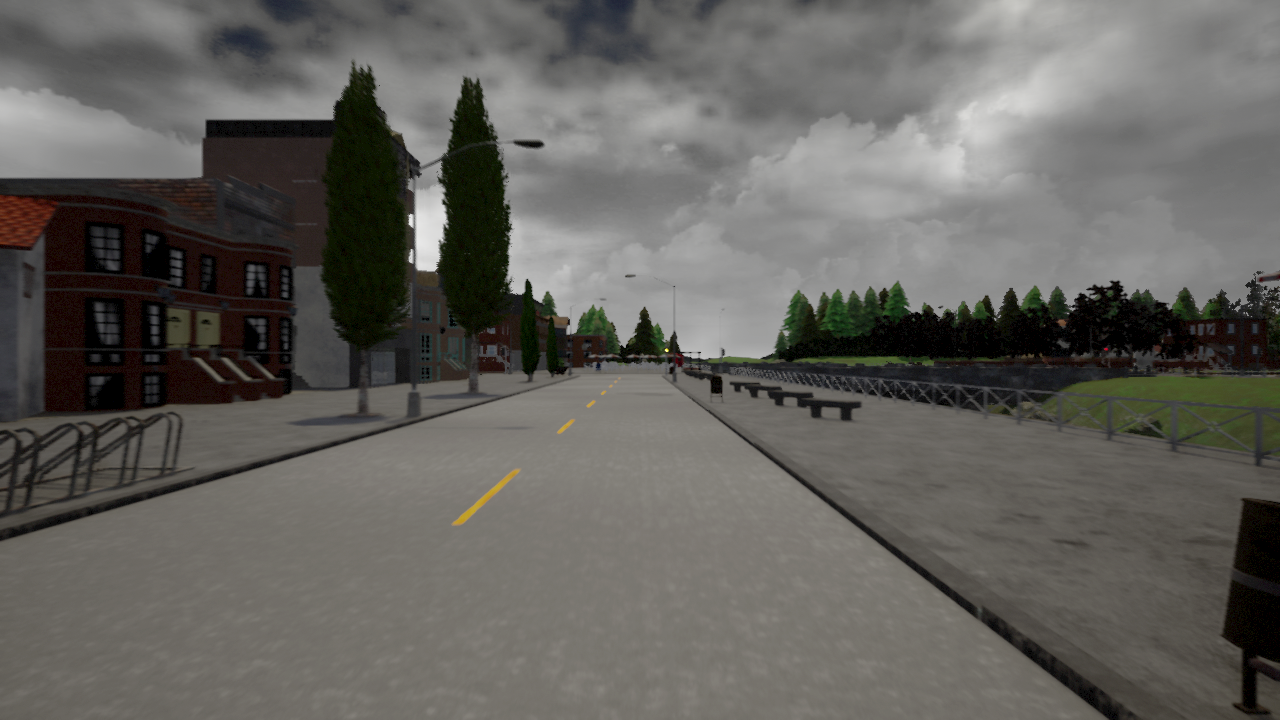yellow: (664, 344, 669, 356)
